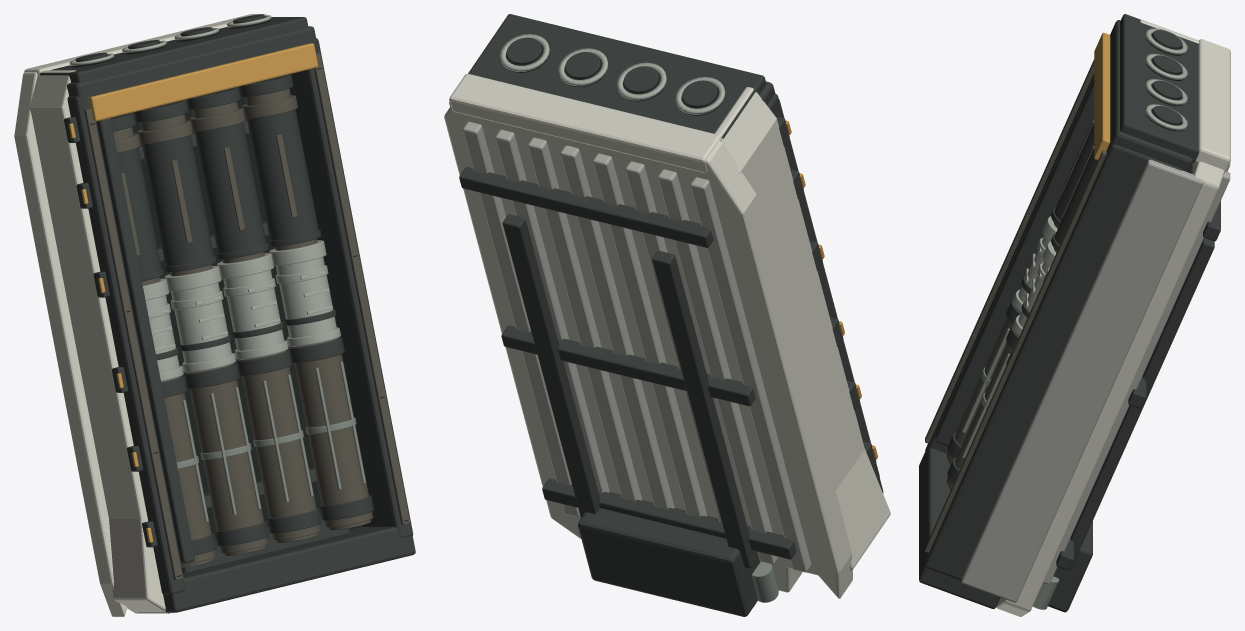
Rendered from warden-pod-a-pod-v1.glb.
The picture shows the model from 3 angles, left to right: view 1: azimuth 30°, elevation 25°; view 2: azimuth 150°, elevation 25°; view 3: azimuth 270°, elevation 25°; orthographic projection. The views are drawn at different scales.
Parts seen in each view (by area): view 1: A | cassette | charcoal frame, A | cassette | brown gunmetal sleeves, A | cassette | warm ceramic armor, A | cassette | aged silver bands, A | cassette | ochre trim, A | cassette | dark recess, A | cassette | fasteners, A | cassette | worn armor edges; view 2: A | cassette | warm ceramic armor, A | cassette | charcoal frame, A | cassette | worn armor edges, A | cassette | aged silver bands, A | cassette | fasteners; view 3: A | cassette | charcoal frame, A | cassette | worn armor edges, A | cassette | warm ceramic armor, A | cassette | brown gunmetal sleeves, A | cassette | aged silver bands, A | cassette | ochre trim, A | cassette | fasteners, A | cassette | dark recess.
Part boxes in pixels (x1,y1,x2,y2): A | cassette | charcoal frame: (40, 14, 415, 612); A | cassette | brown gunmetal sleeves: (84, 53, 409, 580); A | cassette | warm ceramic armor: (14, 14, 267, 616); A | cassette | aged silver bands: (69, 15, 340, 381); A | cassette | ochre trim: (68, 43, 318, 542); A | cassette | dark recess: (71, 19, 408, 576); A | cassette | fasteners: (176, 69, 406, 579); A | cassette | worn armor edges: (148, 270, 332, 351); A | cassette | warm ceramic armor: (444, 73, 890, 598); A | cassette | charcoal frame: (459, 14, 883, 616); A | cassette | worn armor edges: (449, 101, 811, 572); A | cassette | aged silver bands: (500, 34, 725, 114); A | cassette | fasteners: (751, 562, 778, 602); A | cassette | charcoal frame: (919, 14, 1220, 612); A | cassette | worn armor edges: (961, 159, 1230, 602); A | cassette | warm ceramic armor: (996, 19, 1230, 616); A | cassette | brown gunmetal sleeves: (925, 59, 1106, 552); A | cassette | aged silver bands: (1013, 28, 1187, 348); A | cassette | ochre trim: (1094, 32, 1110, 160); A | cassette | fasteners: (926, 215, 1059, 609); A | cassette | dark recess: (925, 33, 1192, 548).
Bounding box in the file's own units: 0.9125 × 1.71 × 0.9387.
